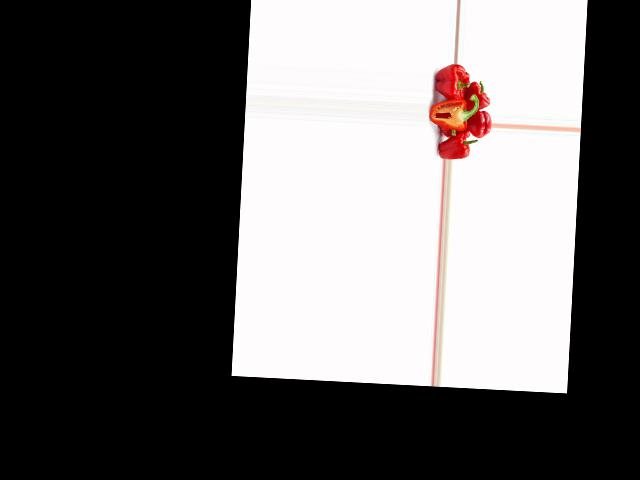bell_pepper: (465, 80, 491, 111)
